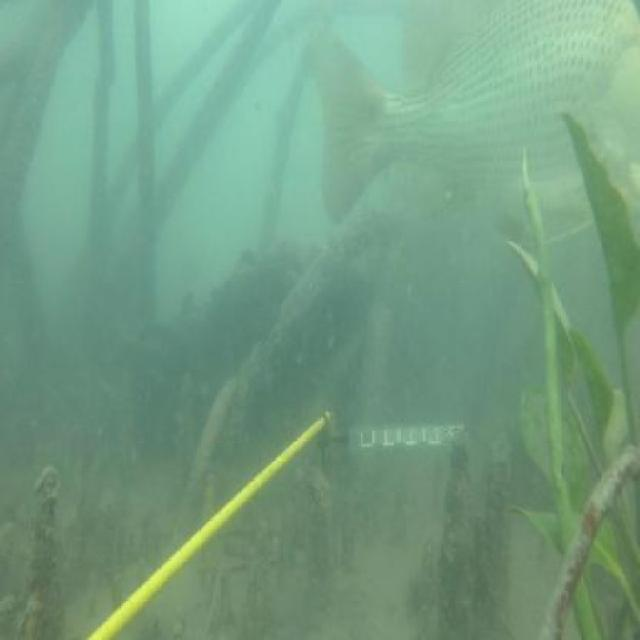lutjanus_johnii: (304, 0, 640, 243)
